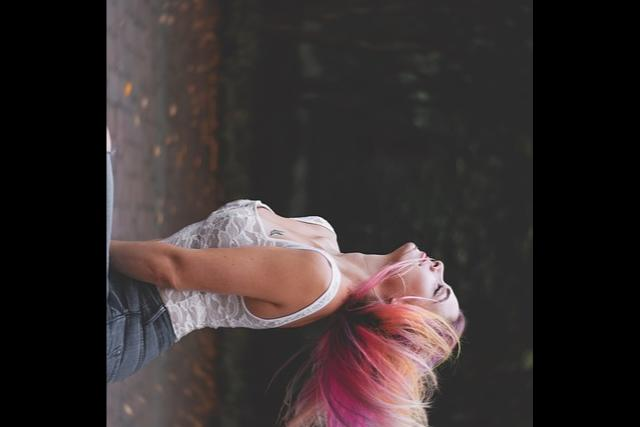Non_Gorille: (106, 136, 488, 427)
